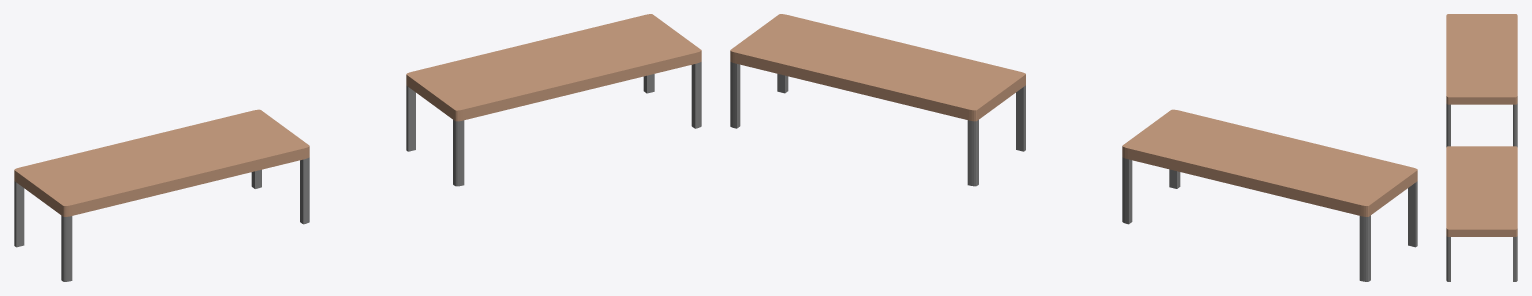
File: Tables.fbx
3 renders of one model, left to right at view 1: azimuth 30°, elevation 25°; view 2: azimuth 150°, elevation 25°; view 3: azimuth 270°, elevation 25°, orthographic. The views are drawn at different scales.
Parts seen in each view (by area): view 1: Cube.003, Cube.001; view 2: Cube.001, Cube.003; view 3: Cube.003, Cube.001.
Part boxes in pixels (x1,y1,x2,y2): Cube.003: (406,14,701,186); Cube.001: (14,109,309,281); Cube.001: (1122,109,1417,281); Cube.003: (730,14,1025,186); Cube.003: (1446,146,1517,281); Cube.001: (1446,14,1517,147).
Bounding box in the file's own units: 796 × 90.38 × 111.
